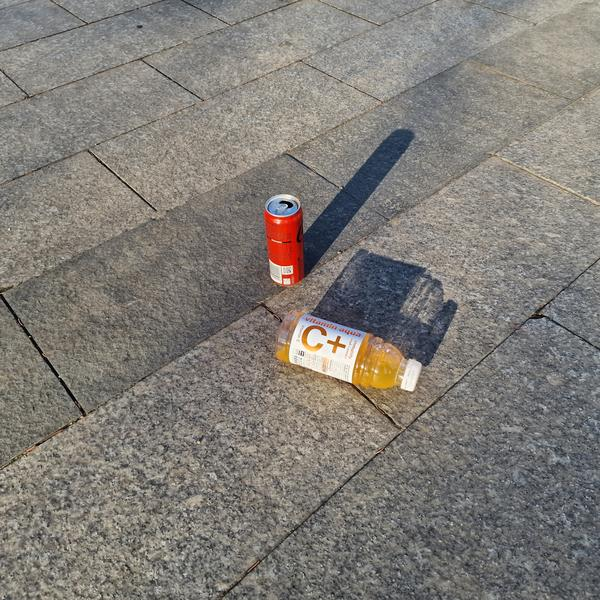can: (260, 192, 310, 290)
plastic_bottle: (268, 306, 428, 402)
